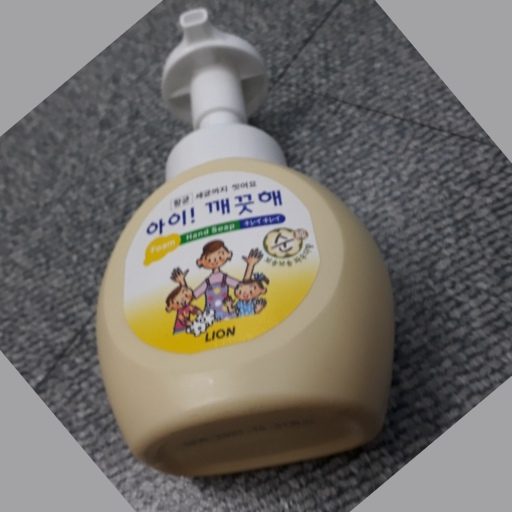Plastic_3: (92, 9, 399, 481)
